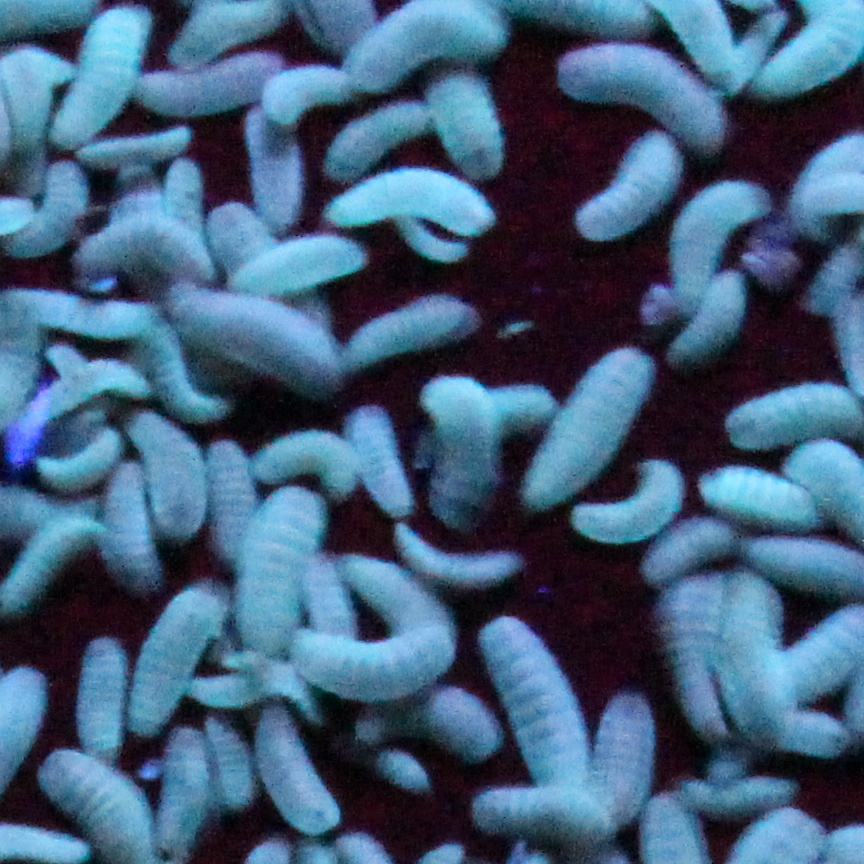larve: (160, 282, 348, 396), (525, 351, 653, 508), (481, 618, 596, 789), (557, 44, 736, 153), (229, 494, 329, 655), (129, 584, 231, 739), (53, 6, 160, 144), (672, 179, 767, 313), (327, 167, 498, 239), (422, 372, 498, 534), (284, 625, 463, 693), (724, 575, 794, 748), (338, 294, 481, 375), (324, 94, 434, 189), (258, 706, 341, 829), (570, 462, 686, 550), (0, 513, 101, 613), (393, 518, 527, 591), (132, 410, 205, 541), (427, 63, 507, 181), (581, 139, 682, 232), (227, 231, 370, 296), (77, 220, 217, 281), (474, 782, 619, 839), (138, 53, 282, 110), (96, 465, 160, 589), (244, 101, 300, 229), (350, 408, 415, 517), (670, 275, 743, 367), (257, 434, 360, 498), (700, 468, 817, 522), (636, 520, 734, 584), (603, 691, 653, 815), (31, 424, 125, 487), (79, 636, 124, 763), (267, 65, 357, 124), (79, 125, 200, 162), (677, 779, 800, 808)
